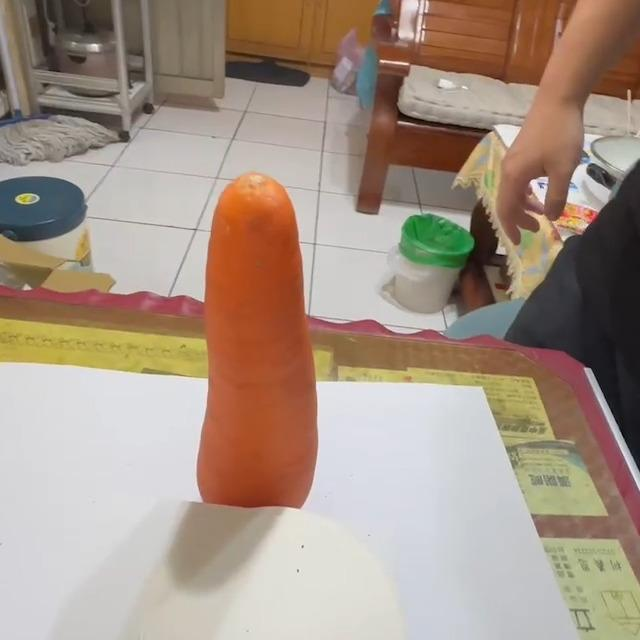carrot: (198, 171, 320, 509)
